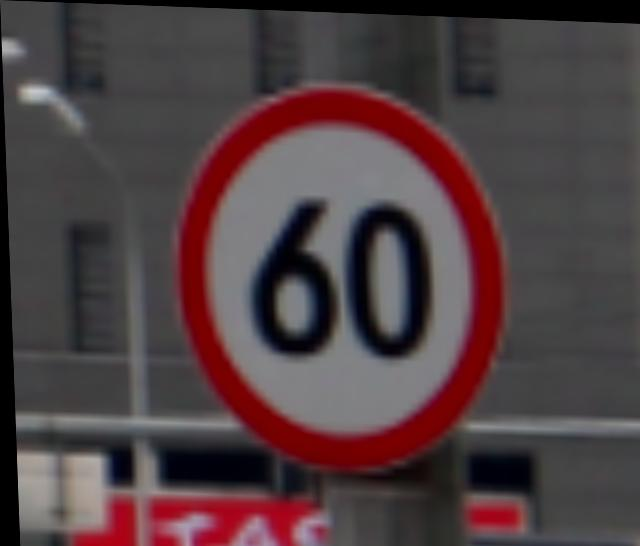limit60: (168, 67, 513, 472)
